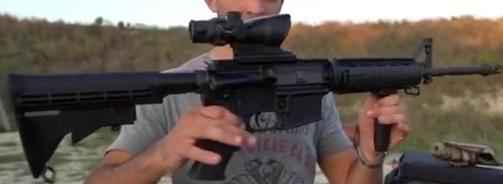gun: (1, 1, 503, 184)
